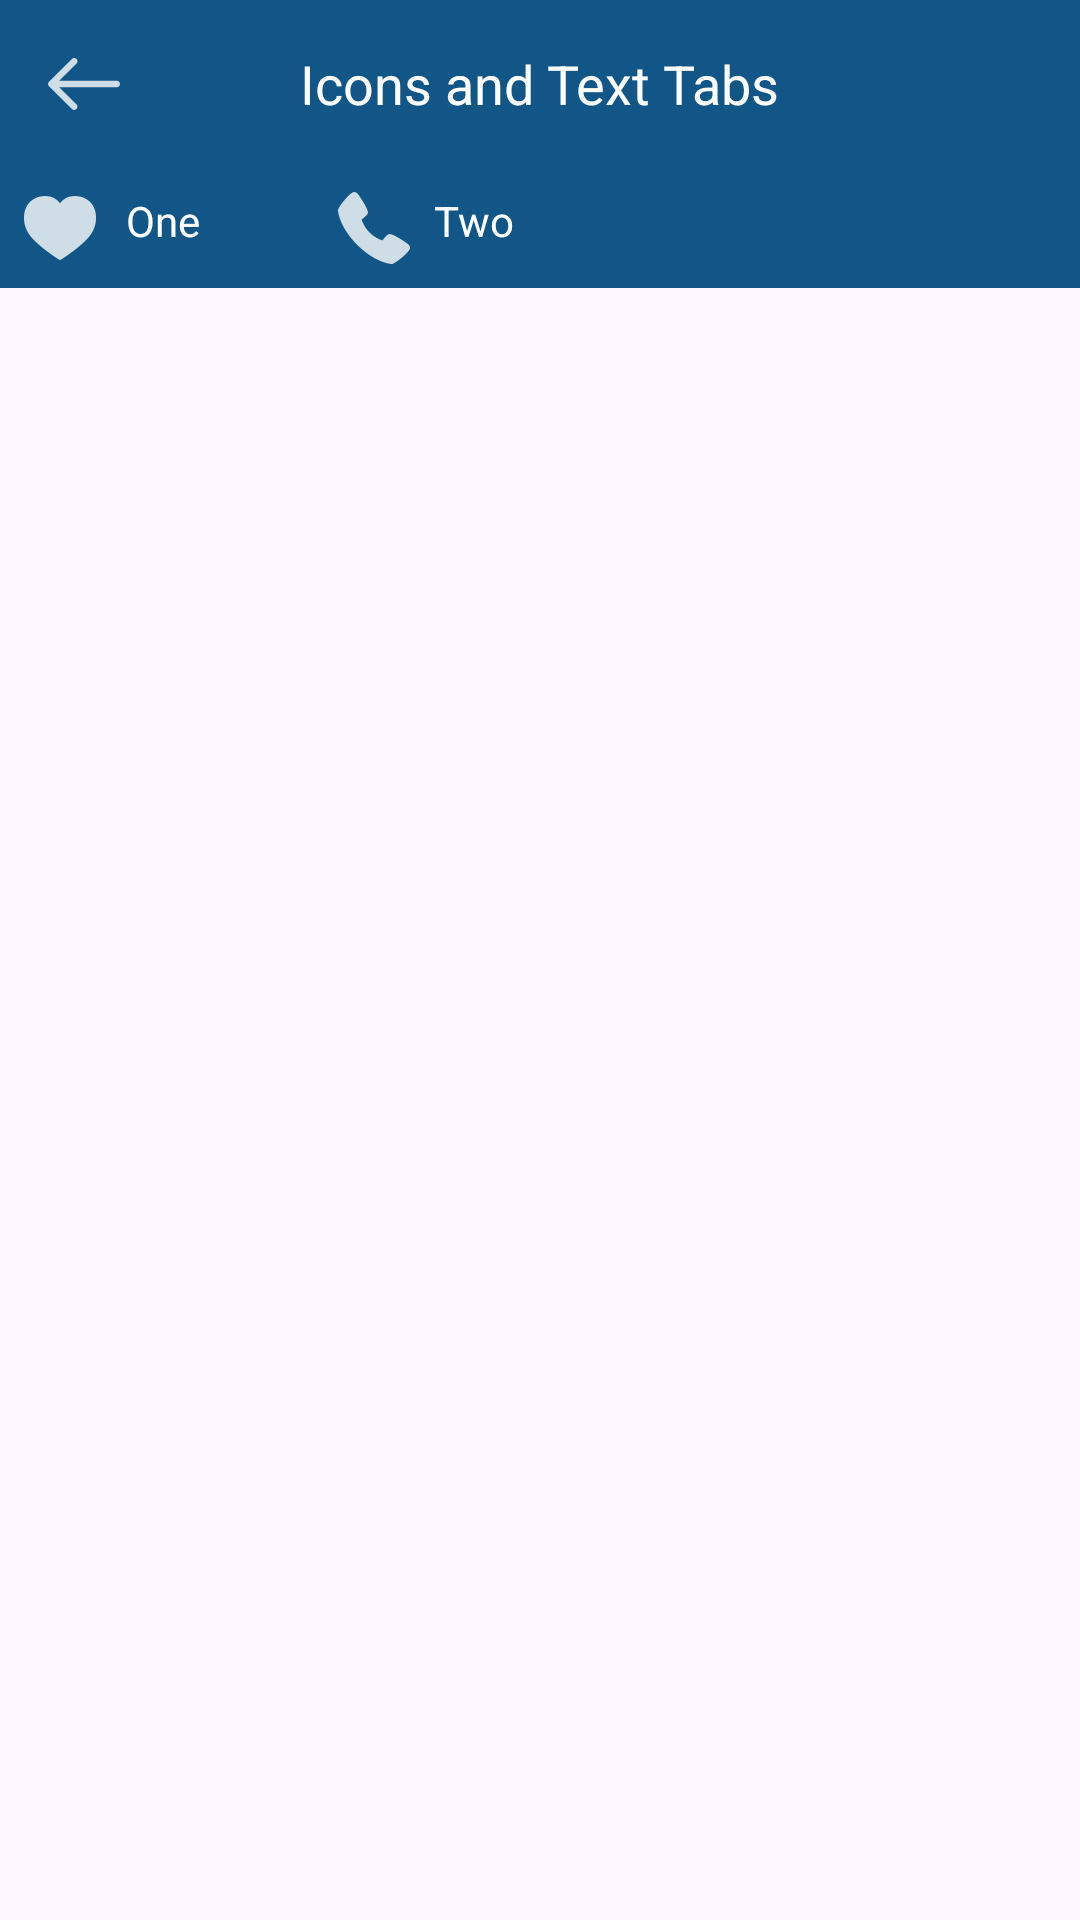

Screen size 1080x1920. Icon name, then its box in pixels as (x1, y1, x2, y2):
back arrow: (48, 58, 120, 110)
